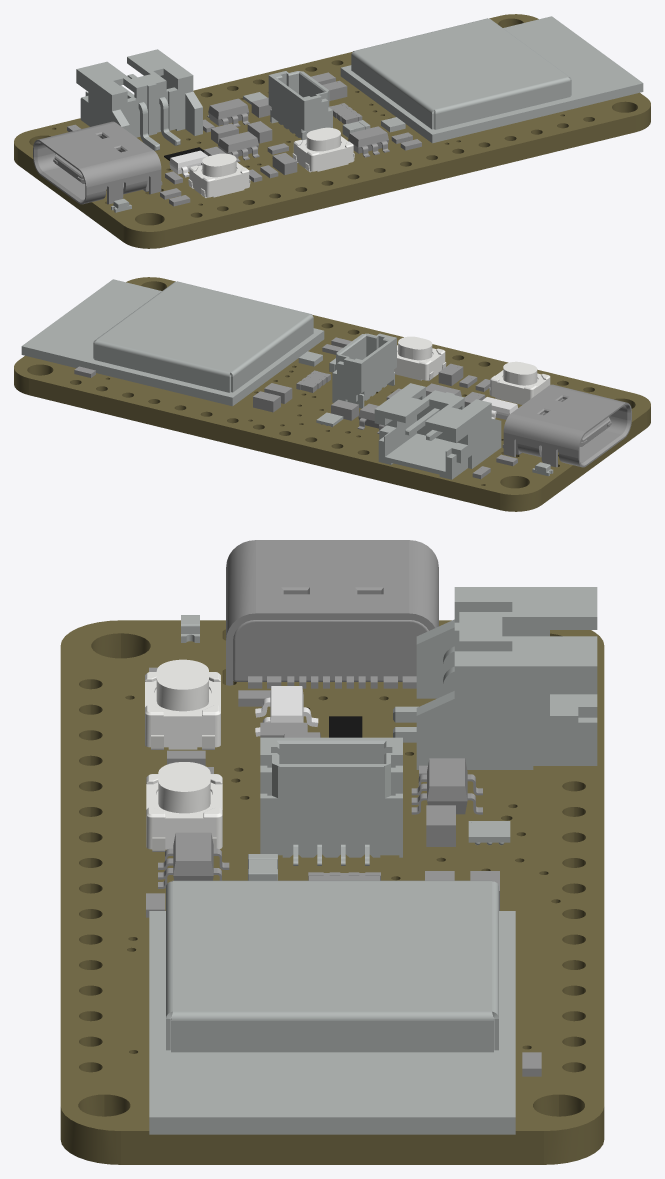
Rendered from adafruit-feather-esp32-s3-5323.glb.
The picture shows the model from 3 angles, top to bottom: view 1: azimuth 30°, elevation 25°; view 2: azimuth 150°, elevation 25°; view 3: azimuth 270°, elevation 25°; orthographic projection. The views are drawn at different scales.
Visible parts, largest first — view 1: CAD_GEOMETRY_UNIDENTIFIED, PCB, X3, SW2, SW1, U5, U3, U2, Q3, C8, R3, C2 (+1 smaller); view 2: CAD_GEOMETRY_UNIDENTIFIED, PCB, X3, SW2, SW1, R3, C7, Q3, C8, C3, U3, C9; view 3: CAD_GEOMETRY_UNIDENTIFIED, PCB, X3, SW2, SW1, U3, U5, Q3, C3, IC1.
Boxes of the visible parts, x1,y1,x2,y2 form: CAD_GEOMETRY_UNIDENTIFIED: [76, 16, 643, 212]; PCB: [14, 14, 650, 248]; X3: [33, 121, 162, 204]; SW2: [188, 153, 250, 197]; SW1: [292, 127, 354, 172]; U5: [348, 126, 389, 157]; U3: [207, 98, 249, 126]; U2: [218, 131, 259, 162]; Q3: [169, 150, 207, 177]; C8: [272, 152, 297, 175]; R3: [329, 103, 362, 124]; C2: [247, 121, 272, 143]; CAD_GEOMETRY_UNIDENTIFIED: [21, 279, 553, 479]; PCB: [14, 277, 650, 511]; X3: [502, 384, 631, 467]; SW2: [489, 361, 550, 404]; SW1: [394, 336, 446, 381]; R3: [296, 370, 330, 392]; C7: [253, 391, 280, 412]; Q3: [482, 397, 517, 419]; C8: [438, 363, 463, 385]; C3: [331, 399, 358, 420]; U3: [357, 403, 386, 433]; C9: [264, 383, 292, 403]; CAD_GEOMETRY_UNIDENTIFIED: [149, 587, 597, 1134]; PCB: [60, 620, 604, 1164]; X3: [226, 540, 438, 688]; SW2: [145, 659, 220, 749]; SW1: [146, 762, 222, 851]; U3: [411, 758, 482, 814]; U5: [158, 832, 229, 888]; Q3: [255, 686, 318, 736]; C3: [426, 805, 455, 846]; IC1: [468, 821, 510, 842].
Size of the model in its own units: 0.0522 by 0.00637 by 0.0229.
